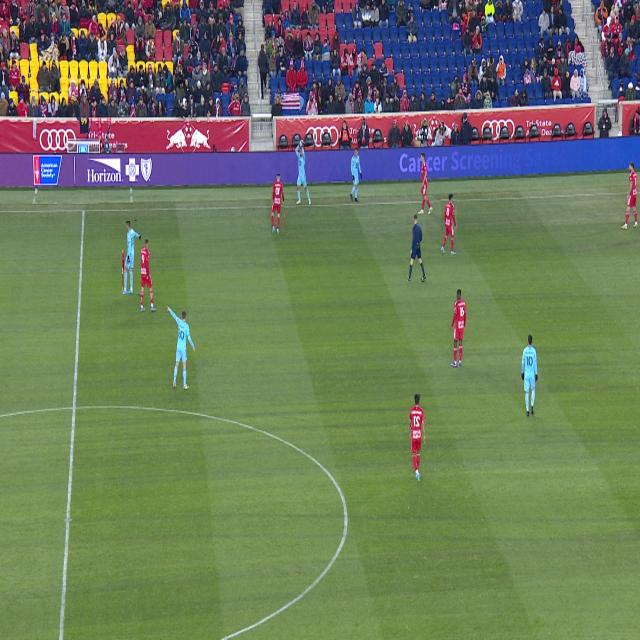player: (167, 306, 195, 389), (123, 221, 141, 294), (522, 336, 538, 416), (410, 394, 425, 473), (140, 238, 156, 311), (451, 290, 466, 367), (621, 162, 638, 229), (441, 195, 457, 255), (418, 153, 432, 214), (272, 174, 284, 234), (424, 444, 425, 445)
referee: (406, 215, 426, 281)
